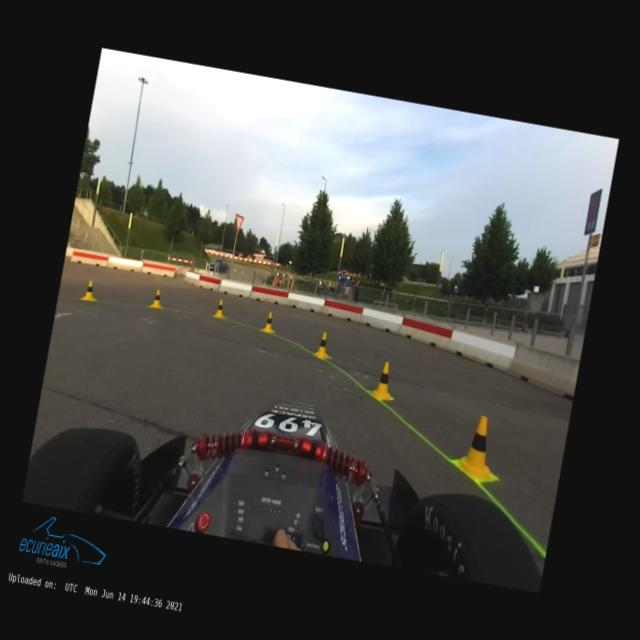yellow_cone: (457, 413, 502, 480), (371, 360, 396, 401), (314, 331, 332, 358), (82, 279, 96, 301), (262, 311, 274, 331), (150, 288, 162, 307), (214, 298, 225, 318)
